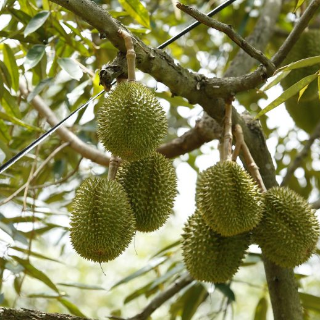sau_rieng: (92, 76, 171, 163), (69, 173, 140, 266), (194, 156, 267, 236)
